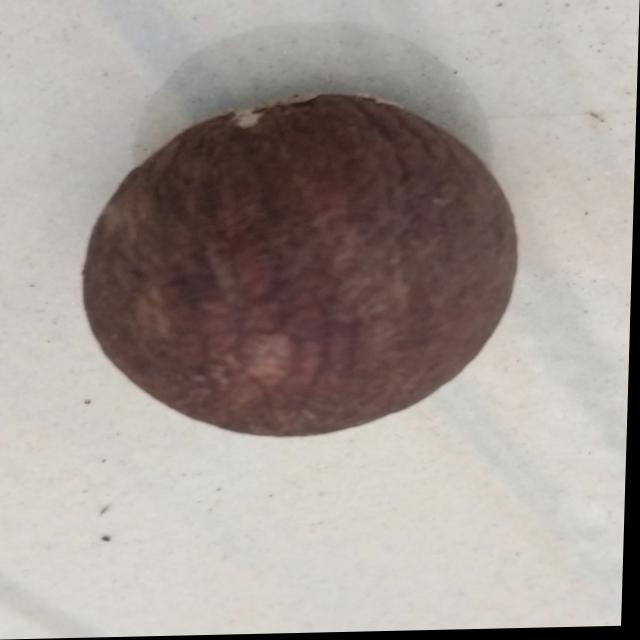karigot: (69, 62, 564, 455)
